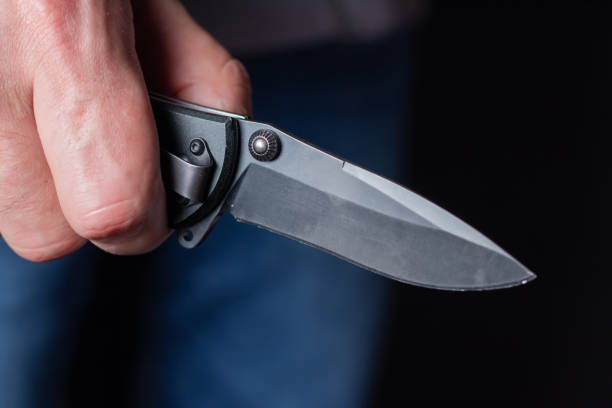knife: (147, 86, 541, 295)
